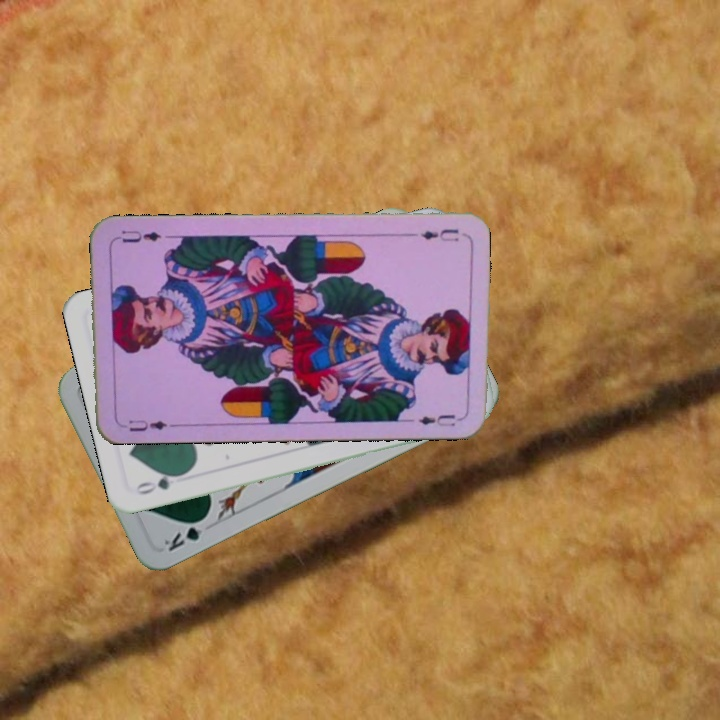EU: (125, 415, 176, 434), (416, 225, 461, 244)
GK: (160, 513, 210, 554)
GO: (132, 469, 188, 497)
